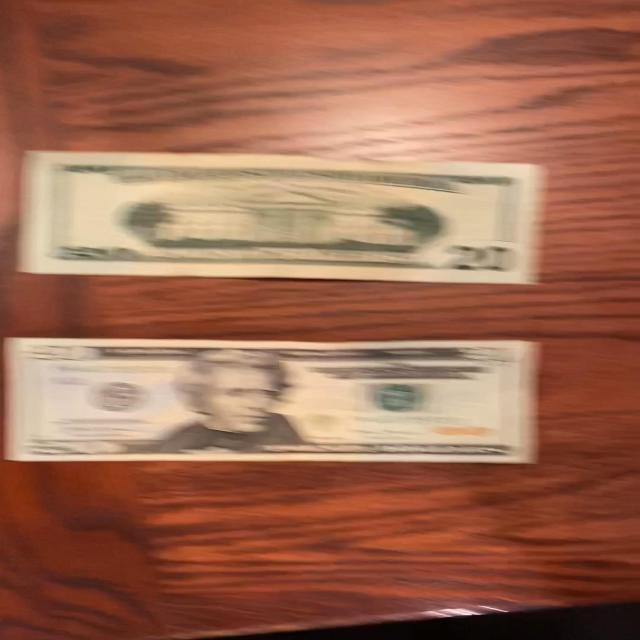20-Back: (17, 149, 555, 288)
20-Front: (0, 328, 559, 476)
